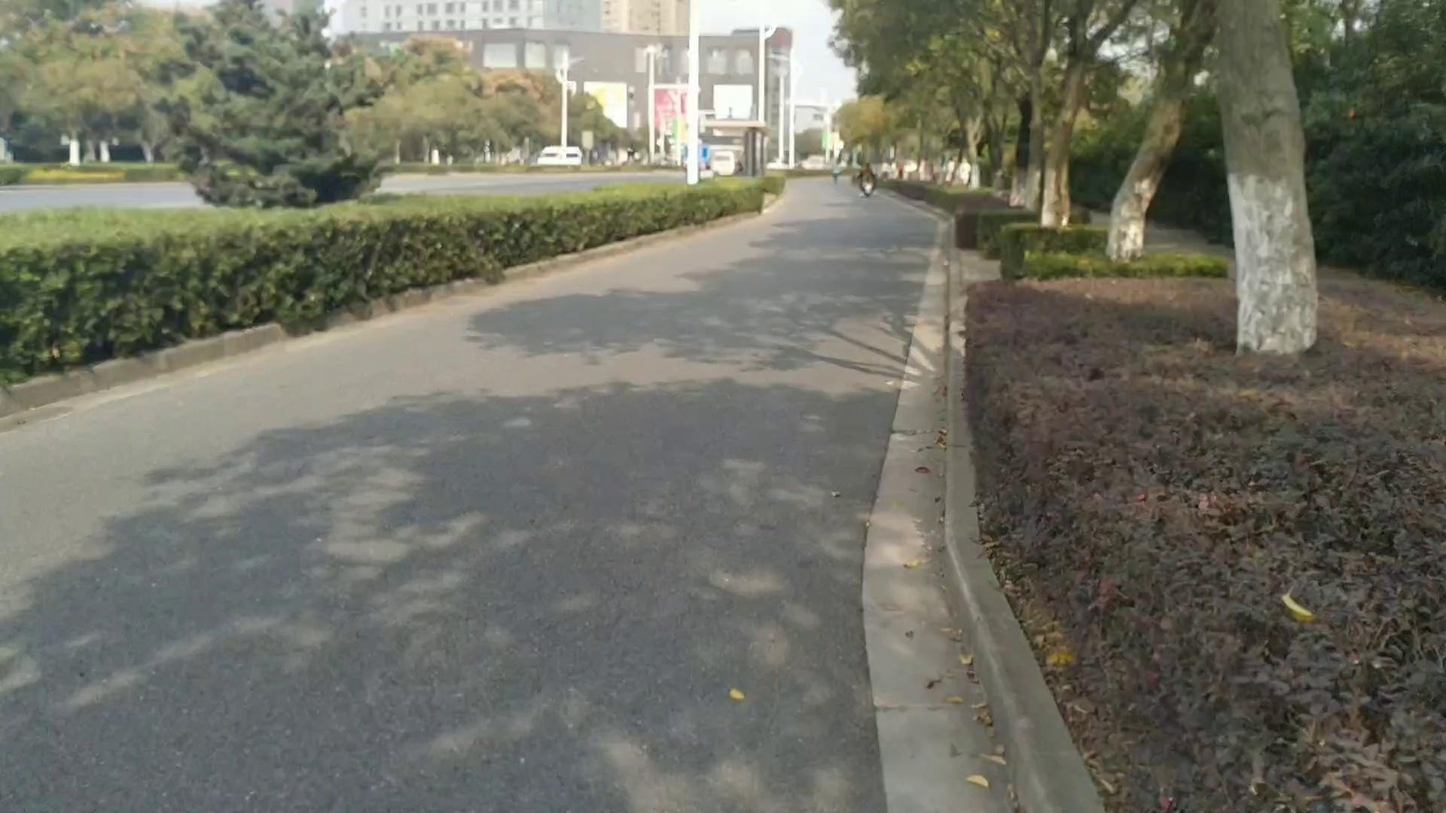car: (534, 145, 584, 166)
